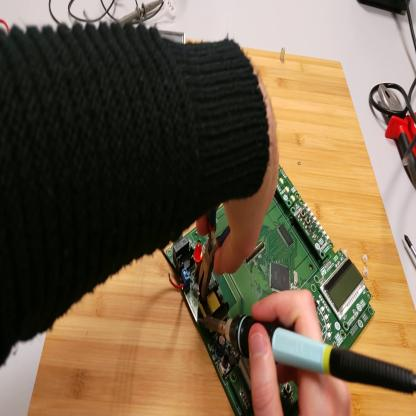hand: (192, 68, 285, 275), (248, 287, 349, 412)
low voltage board: (162, 164, 375, 415)
oscilloscope probe tip: (116, 2, 163, 25)
pliers: (378, 83, 416, 187), (199, 209, 234, 304)
screwdriver-: (406, 236, 416, 258)
welder probe tip: (199, 313, 416, 395)
welder station: (359, 2, 410, 19)
working area: (28, 52, 416, 416)
